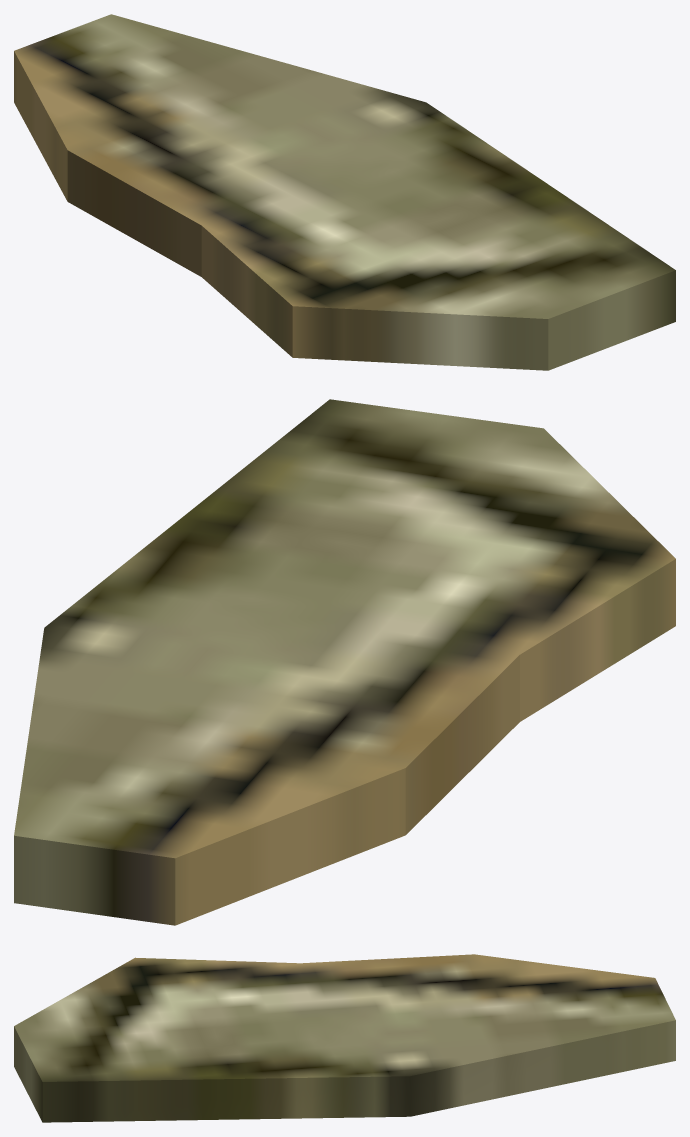
File: GLA - Aviation - Cargo Plane - Damage State 3 - UVCargoPln_d3.glb
3 views of the same model, one above another, from view 1: azimuth 30°, elevation 25°; view 2: azimuth 150°, elevation 25°; view 3: azimuth 270°, elevation 25° (orthographic). The views are drawn at different scales.
Parts seen in each view (by area): view 1: UVCARGOPLN_D3; view 2: UVCARGOPLN_D3; view 3: UVCARGOPLN_D3.
Boxes of the visible parts, left/top/right/bottom form: UVCARGOPLN_D3: left=14, top=14, right=675, bottom=370; UVCARGOPLN_D3: left=14, top=399, right=675, bottom=925; UVCARGOPLN_D3: left=14, top=954, right=675, bottom=1122.
Bounding box in the file's own units: 5.06 × 0.75 × 11.09.
1 material, 1 textured.
